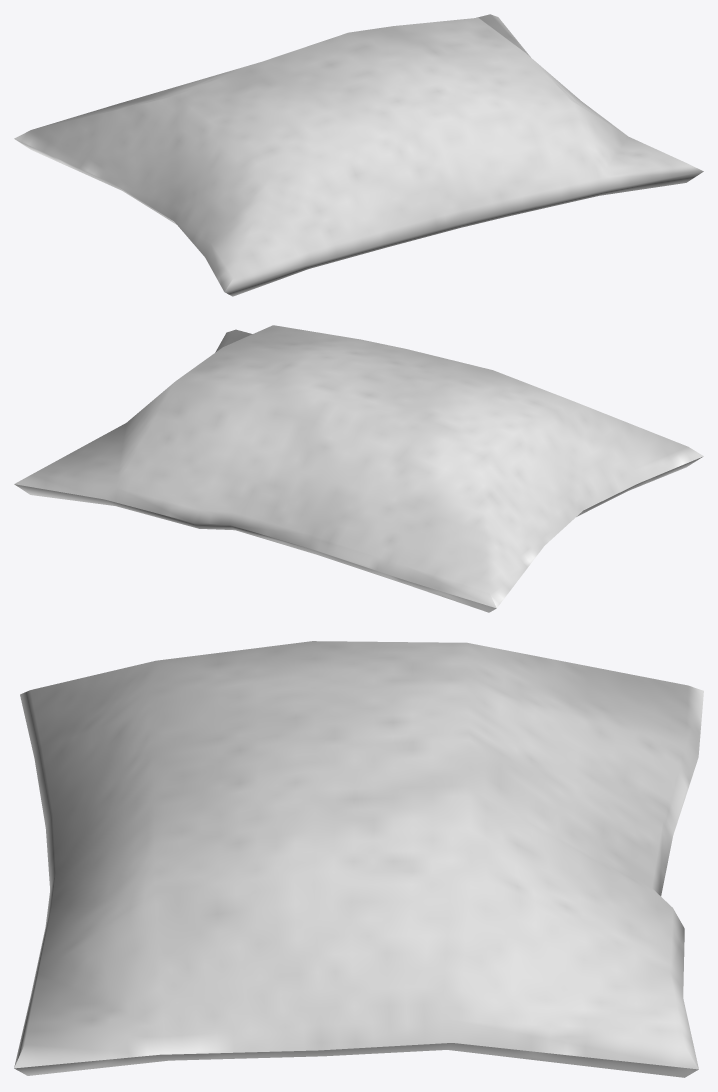
The model's file is Coussin03.fbx.
3 renders of one model, top to bottom at view 1: azimuth 30°, elevation 25°; view 2: azimuth 150°, elevation 25°; view 3: azimuth 270°, elevation 25°, orthographic. The views are drawn at different scales.
Visible parts, largest first — view 1: Coussin03; view 2: Coussin03; view 3: Coussin03.
Part boxes in pixels (box(x1,y1,x2,y2)): Coussin03: box(14, 14, 703, 296); Coussin03: box(14, 325, 703, 612); Coussin03: box(14, 641, 703, 1077).
Bounding box in the file's own units: 1.42 × 1.07 × 0.3689.
